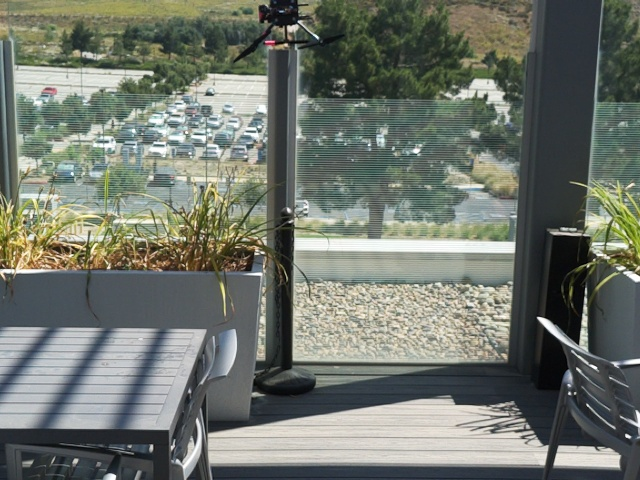quadcopter: (228, 1, 353, 65)
